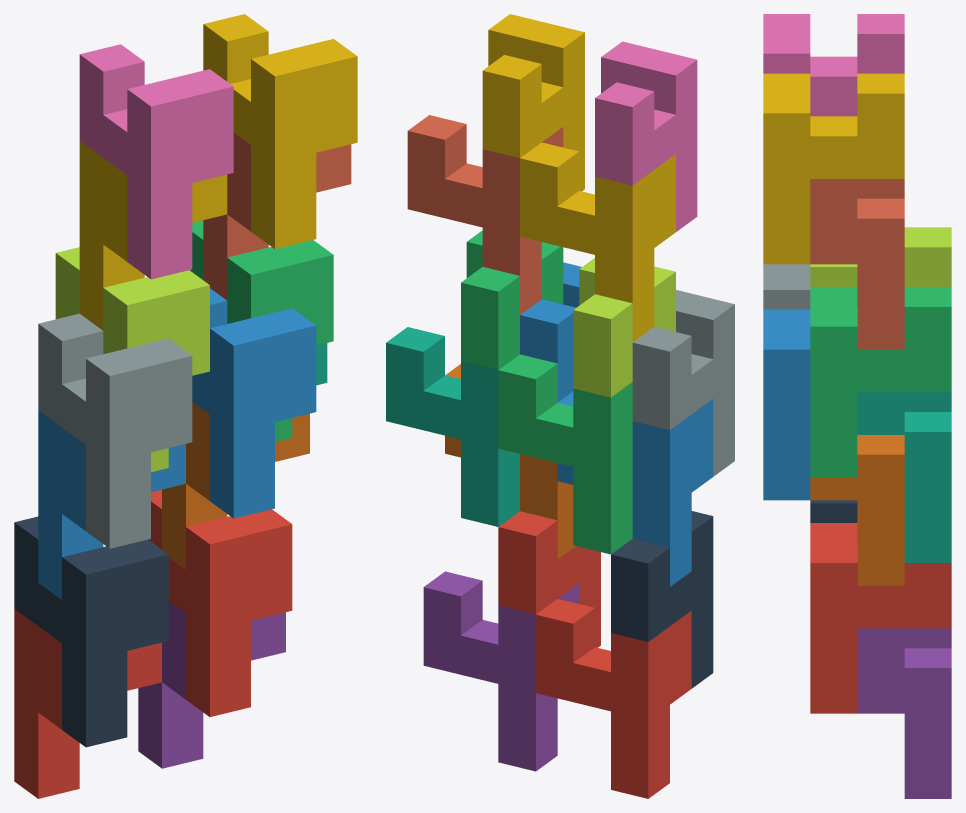
Rendered from tiling.obj.
3 renders of one model, left to right at view 1: azimuth 30°, elevation 25°; view 2: azimuth 150°, elevation 25°; view 3: azimuth 270°, elevation 25°, orthographic. The views are drawn at different scales.
Visible parts, largest first — view 1: copy_2_domain_4, copy_2_domain_2, copy_2_domain_8, copy_2_domain_1, copy_2_domain_5, copy_2_domain_6, copy_1_domain_1, copy_2_domain_3, copy_2_domain_7, copy_1_domain_4, copy_1_domain_2, copy_1_domain_5 (+2 smaller); view 2: copy_1_domain_1, copy_1_domain_4, copy_1_domain_3, copy_1_domain_5, copy_1_domain_7, copy_2_domain_4, copy_1_domain_8, copy_2_domain_8, copy_2_domain_2, copy_2_domain_1, copy_1_domain_2, copy_2_domain_5 (+4 smaller); view 3: copy_2_domain_8, copy_2_domain_7, copy_2_domain_5, copy_1_domain_5, copy_1_domain_8, copy_1_domain_7, copy_2_domain_6, copy_2_domain_4, copy_1_domain_6, copy_2_domain_3, copy_2_domain_2, copy_2_domain_1.
Part boxes in pixels (bbox=[...]): copy_2_domain_4: bbox=[79, 44, 233, 279]; copy_2_domain_2: bbox=[38, 313, 192, 548]; copy_2_domain_8: bbox=[203, 14, 357, 248]; copy_2_domain_1: bbox=[14, 516, 168, 747]; copy_2_domain_5: bbox=[148, 489, 292, 716]; copy_2_domain_6: bbox=[192, 288, 316, 518]; copy_1_domain_1: bbox=[14, 609, 161, 798]; copy_2_domain_3: bbox=[55, 247, 209, 472]; copy_2_domain_7: bbox=[189, 220, 333, 441]; copy_1_domain_4: bbox=[79, 141, 227, 330]; copy_1_domain_2: bbox=[38, 410, 185, 599]; copy_1_domain_5: bbox=[138, 601, 285, 768]; copy_1_domain_1: bbox=[536, 599, 691, 798]; copy_1_domain_4: bbox=[520, 142, 675, 341]; copy_1_domain_3: bbox=[498, 354, 632, 554]; copy_1_domain_5: bbox=[423, 571, 579, 771]; copy_1_domain_7: bbox=[386, 327, 519, 526]; copy_2_domain_4: bbox=[595, 41, 697, 231]; copy_1_domain_8: bbox=[407, 115, 563, 314]; copy_2_domain_8: bbox=[482, 14, 584, 191]; copy_2_domain_2: bbox=[632, 290, 734, 476]; copy_2_domain_1: bbox=[611, 511, 713, 688]; copy_1_domain_2: bbox=[557, 391, 713, 586]; copy_2_domain_5: bbox=[498, 511, 600, 647]; copy_2_domain_8: bbox=[763, 73, 904, 264]; copy_2_domain_7: bbox=[810, 287, 951, 477]; copy_2_domain_5: bbox=[810, 523, 951, 713]; copy_1_domain_5: bbox=[857, 628, 951, 798]; copy_1_domain_8: bbox=[810, 179, 904, 349]; copy_1_domain_7: bbox=[857, 392, 951, 562]; copy_2_domain_6: bbox=[763, 309, 810, 500]; copy_2_domain_4: bbox=[763, 14, 904, 116]; copy_1_domain_6: bbox=[810, 435, 904, 585]; copy_2_domain_3: bbox=[810, 227, 951, 286]; copy_2_domain_2: bbox=[763, 264, 810, 309]; copy_2_domain_1: bbox=[810, 500, 857, 522].
Size of the model in its own units: 7 by 17 by 4.
